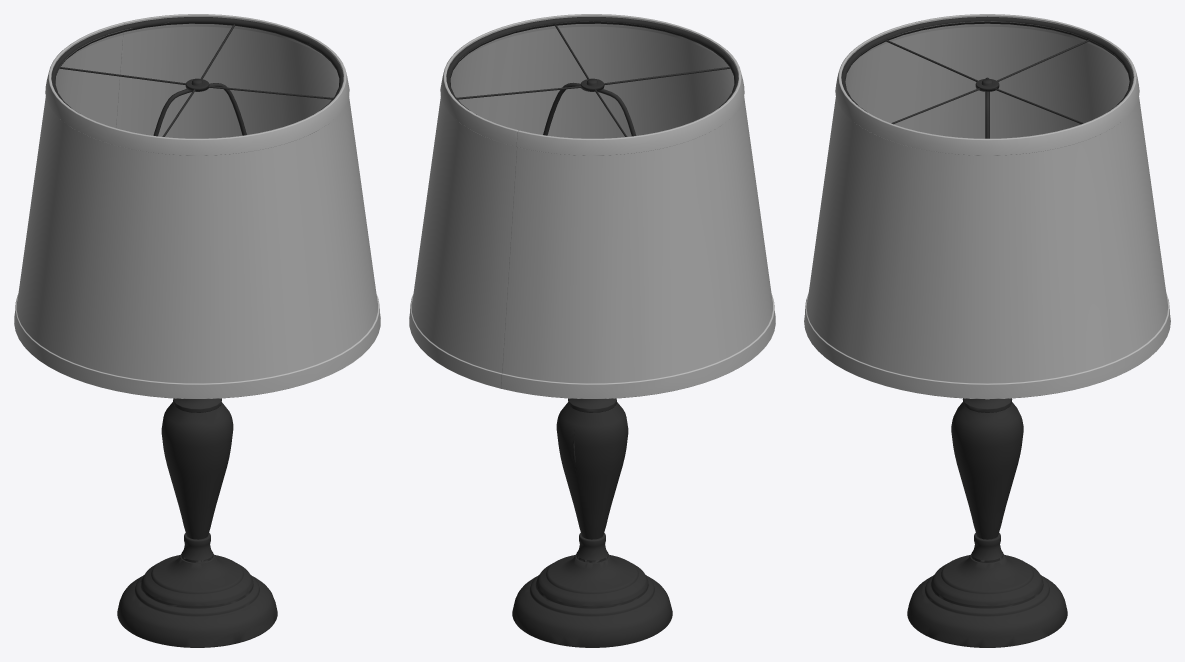
The model's file is B07DBK7KH8.glb.
3 views of the same model, side by side, from view 1: azimuth 30°, elevation 25°; view 2: azimuth 150°, elevation 25°; view 3: azimuth 270°, elevation 25° (orthographic).
Parts seen in each view (by area): view 1: RootNode; view 2: RootNode; view 3: RootNode.
Part boxes in pixels (x1=…): RootNode: x1=14, y1=14, x2=380, y2=647; RootNode: x1=409, y1=14, x2=775, y2=647; RootNode: x1=804, y1=14, x2=1170, y2=647.
Size of the model in its own units: 0.3098 by 0.5007 by 0.3098.
1 material, 1 textured.
